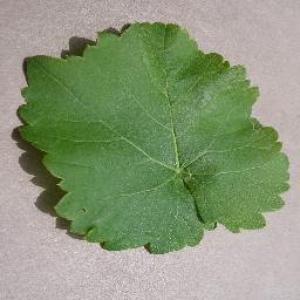Folha: (15, 20, 291, 254)
